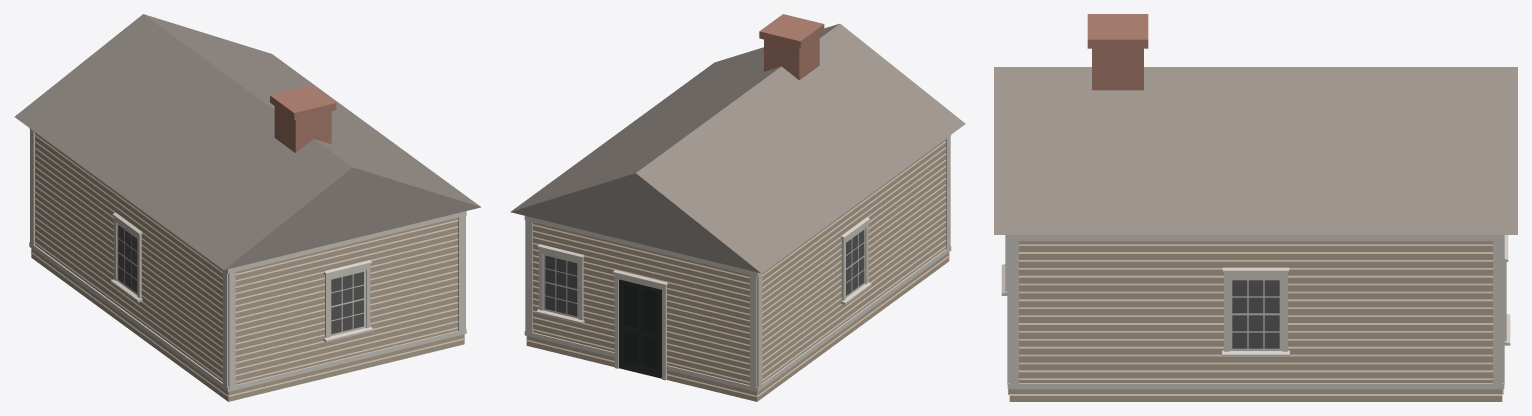
The model's file is inf_butcher_market__inferred_1835.glb.
The picture shows the model from 3 angles, left to right: view 1: azimuth 30°, elevation 25°; view 2: azimuth 150°, elevation 25°; view 3: azimuth 270°, elevation 25°; orthographic projection. The views are drawn at different scales.
Parts seen in each view (by area): view 1: inf_butcher_market__inferred_1835; view 2: inf_butcher_market__inferred_1835; view 3: inf_butcher_market__inferred_1835.
Boxes of the visible parts, <box> form: inf_butcher_market__inferred_1835: <box>14,14,480,401</box>; inf_butcher_market__inferred_1835: <box>510,14,965,401</box>; inf_butcher_market__inferred_1835: <box>994,14,1517,401</box>.
Bounding box in the file's own units: 5.99 × 5.38 × 8.43.
